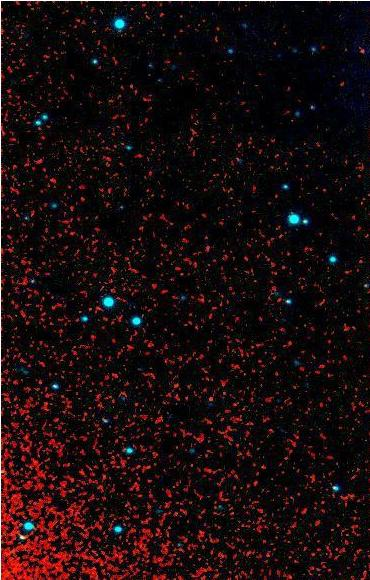star: (196, 383, 226, 413)
